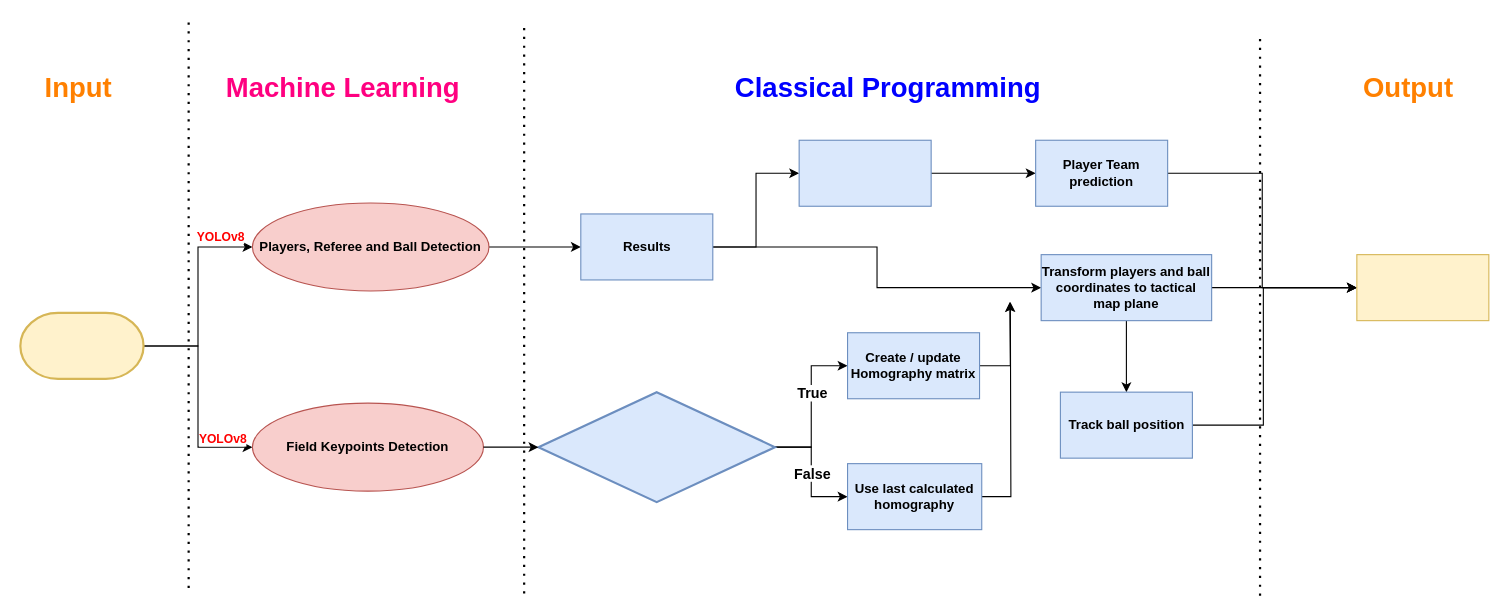
Image size: 1508x616. Some labels were removed from this diagram. The box of each missing label's shape, as (x1, y1, x2, y2) in pixels:
Annotated video: (1356, 254, 1489, 321)
Extract detected players color palette: (798, 139, 931, 206)
Update Homography condition: (537, 391, 776, 503)
Video: (19, 311, 144, 380)
